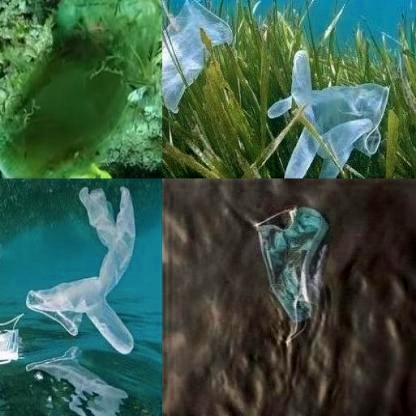Mask: (0, 0, 161, 177), (252, 208, 332, 347), (0, 312, 29, 366)
glove: (26, 185, 138, 357), (260, 46, 394, 178), (162, 0, 236, 135)
